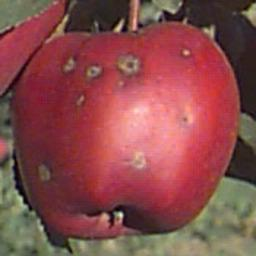apple: (8, 18, 237, 246)
